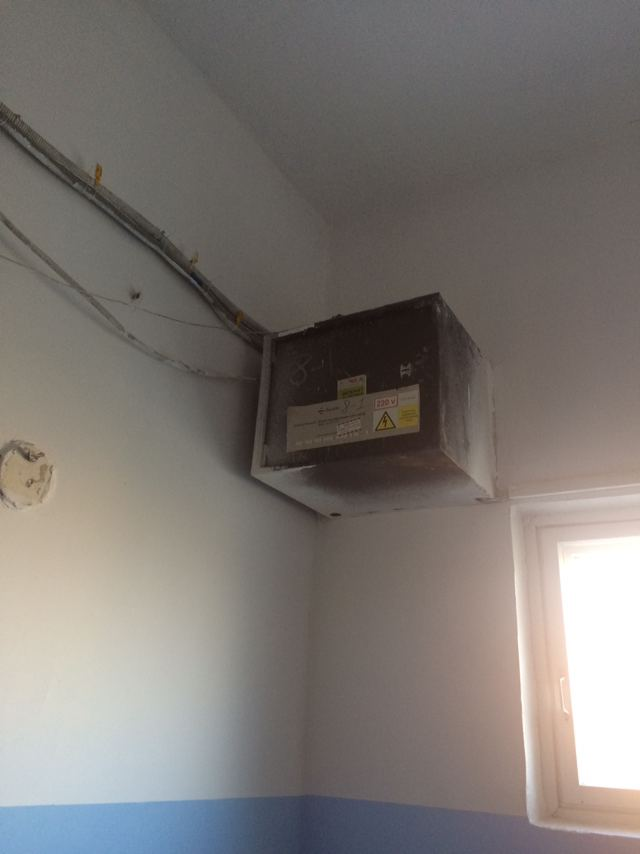shta-9m: (245, 281, 508, 525)
